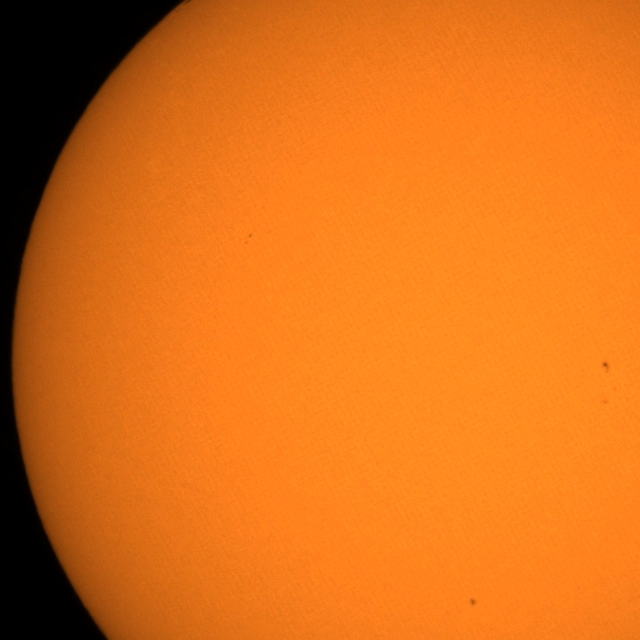sunspot: (601, 360, 611, 374), (243, 232, 253, 244), (468, 597, 478, 608)
